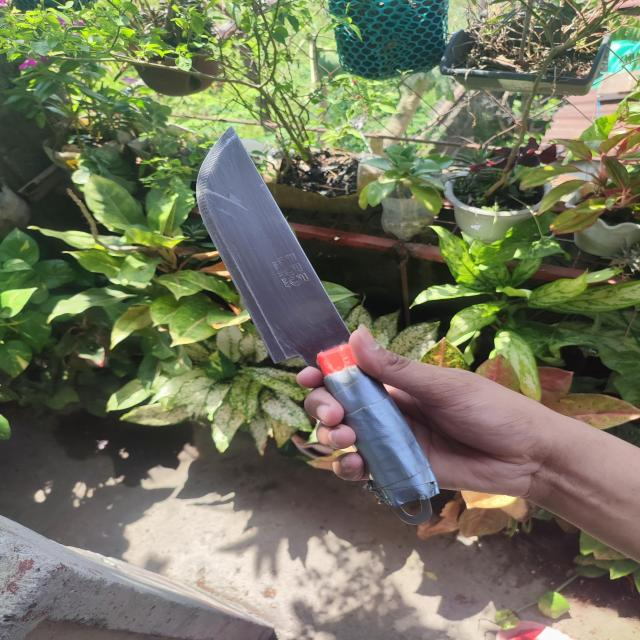knife: (196, 126, 432, 518)
